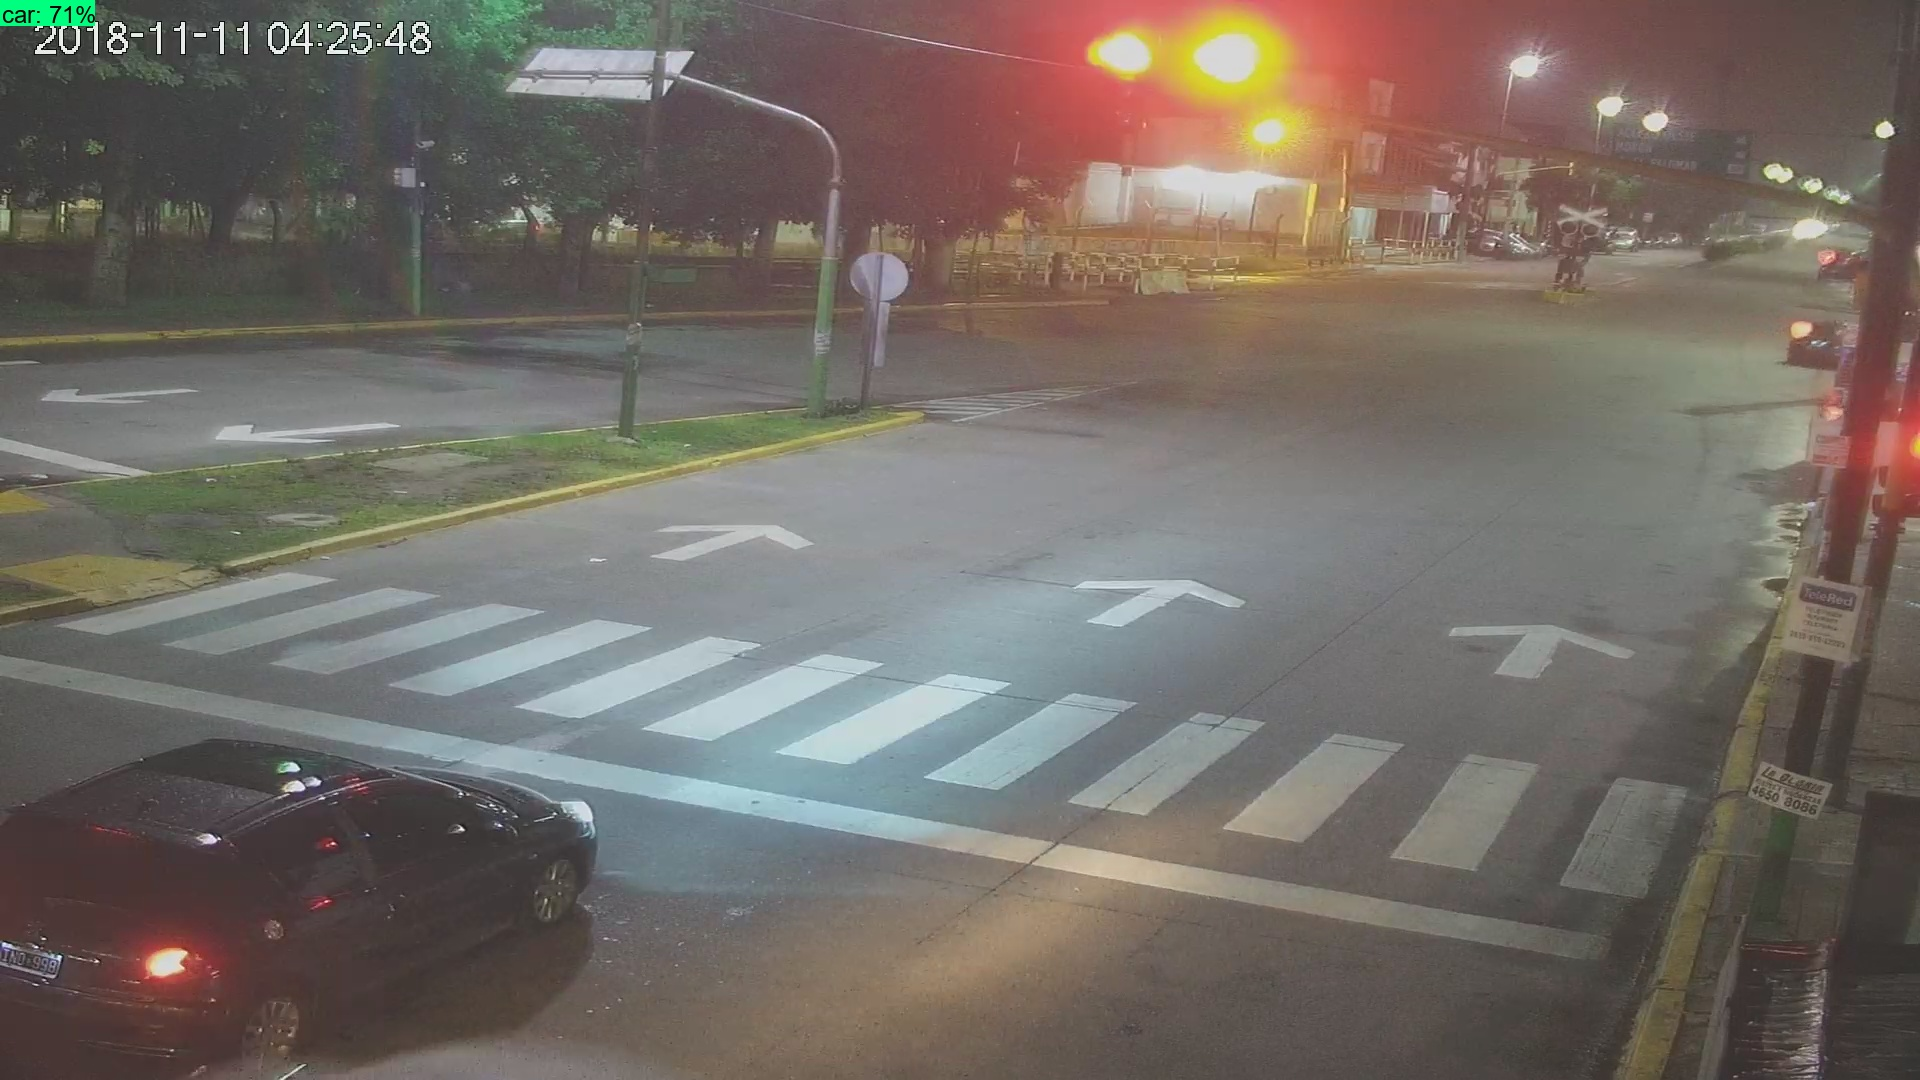car: (5, 735, 605, 1080)
